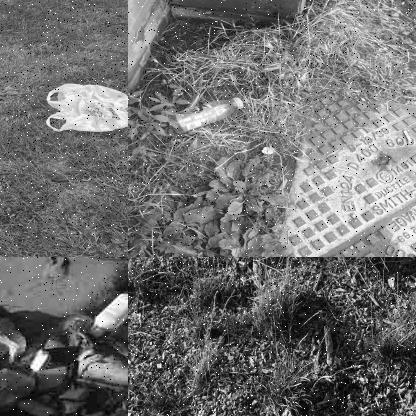plastic: (34, 76, 127, 136), (166, 96, 247, 130), (94, 294, 127, 340)
